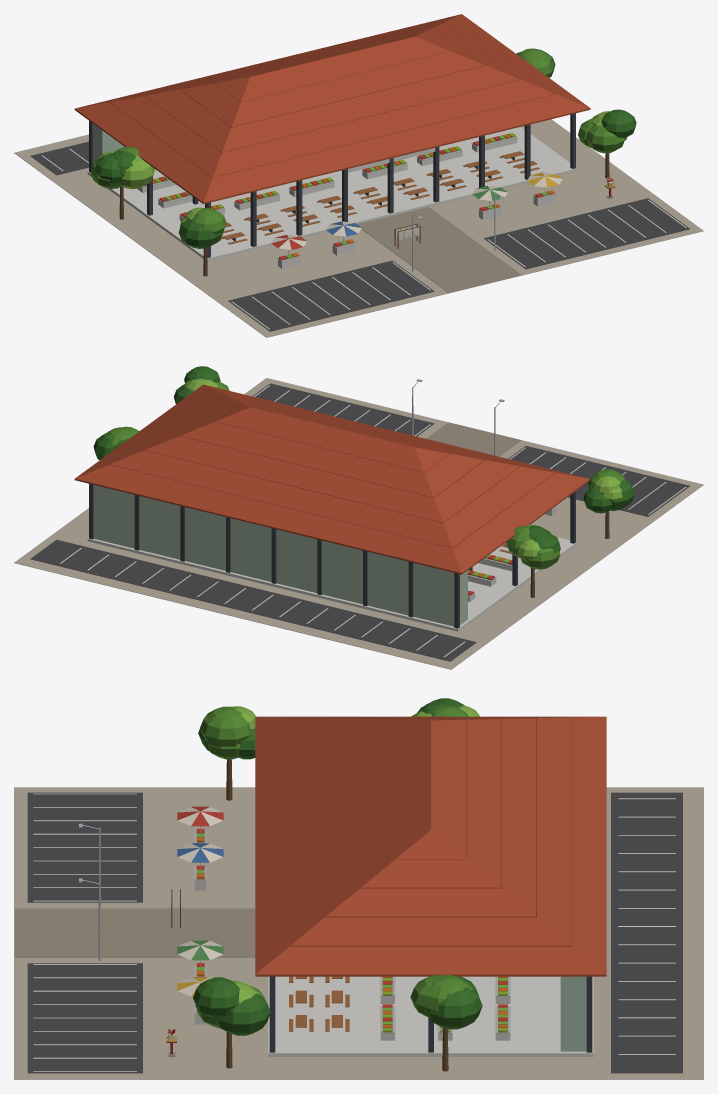
File: market.glb
3 views of the same model, one above another, from view 1: azimuth 30°, elevation 25°; view 2: azimuth 150°, elevation 25°; view 3: azimuth 270°, elevation 25° (orthographic). The views are drawn at different scales.
Parts seen in each view (by area): view 1: body; view 2: body; view 3: body.
Boxes of the visible parts, x1,y1,x2,y2 form: body: (14,14,703,337); body: (14,366,703,669); body: (14,698,703,1079).
Bounding box in the file's own units: 50.27 × 12.18 × 47.9.
